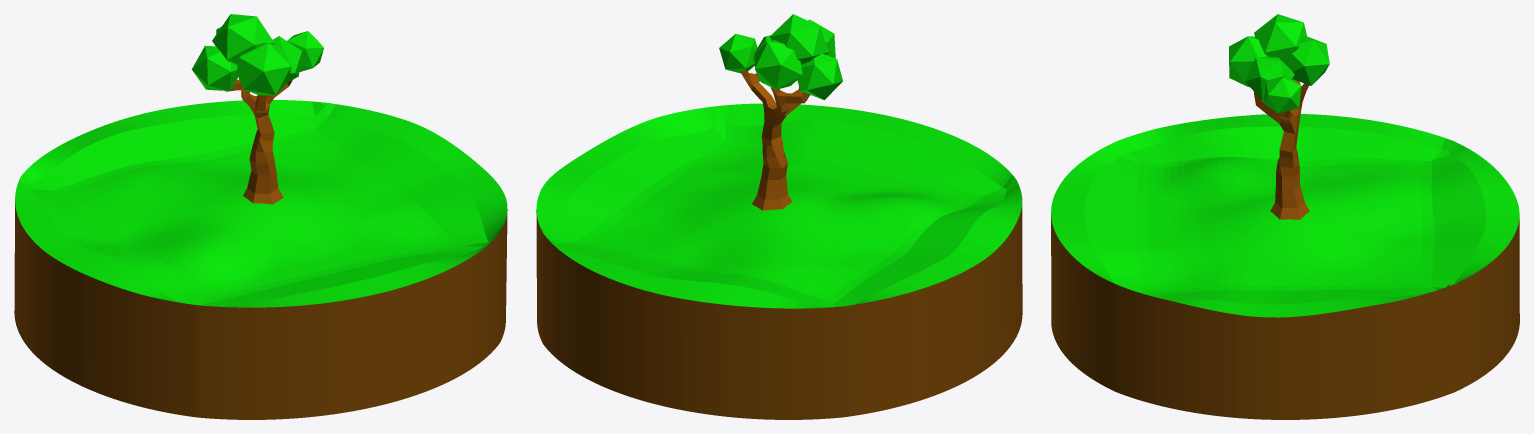
The model's file is tree.glb.
The picture shows the model from 3 angles, left to right: view 1: azimuth 30°, elevation 25°; view 2: azimuth 150°, elevation 25°; view 3: azimuth 270°, elevation 25°; orthographic projection. The views are drawn at different scales.
Visible parts, largest first — view 1: Plane, Cylinder, Icosphere.002, Icosphere.005, Icosphere.003, Icosphere, Icosphere.001; view 2: Plane, Cylinder, Icosphere.004, Icosphere.005, Icosphere.003, Icosphere; view 3: Plane, Cylinder, Icosphere.005, Icosphere.004, Icosphere.002, Icosphere, Icosphere.001.
Part boxes in pixels (left/top/right/bottom): Plane: left=14, top=100, right=507, bottom=419; Cylinder: left=225, top=79, right=292, bottom=204; Icosphere.002: left=237, top=43, right=290, bottom=95; Icosphere.005: left=212, top=14, right=274, bottom=65; Icosphere.003: left=191, top=45, right=238, bottom=91; Icosphere: left=287, top=31, right=323, bottom=71; Icosphere.001: left=273, top=36, right=302, bottom=83; Plane: left=536, top=103, right=1022, bottom=419; Cylinder: left=740, top=71, right=810, bottom=210; Icosphere.004: left=755, top=40, right=802, bottom=89; Icosphere.005: left=770, top=14, right=829, bottom=64; Icosphere.003: left=797, top=53, right=842, bottom=100; Icosphere: left=719, top=33, right=757, bottom=73; Plane: left=1051, top=114, right=1519, bottom=419; Cylinder: left=1253, top=79, right=1309, bottom=219; Icosphere.005: left=1254, top=14, right=1307, bottom=62; Icosphere.004: left=1285, top=36, right=1329, bottom=85; Icosphere.002: left=1229, top=36, right=1267, bottom=87; Icosphere: left=1263, top=75, right=1301, bottom=113; Icosphere.001: left=1244, top=56, right=1294, bottom=100.
Bounding box in the file's own units: 14.6 × 10.12 × 14.6.
